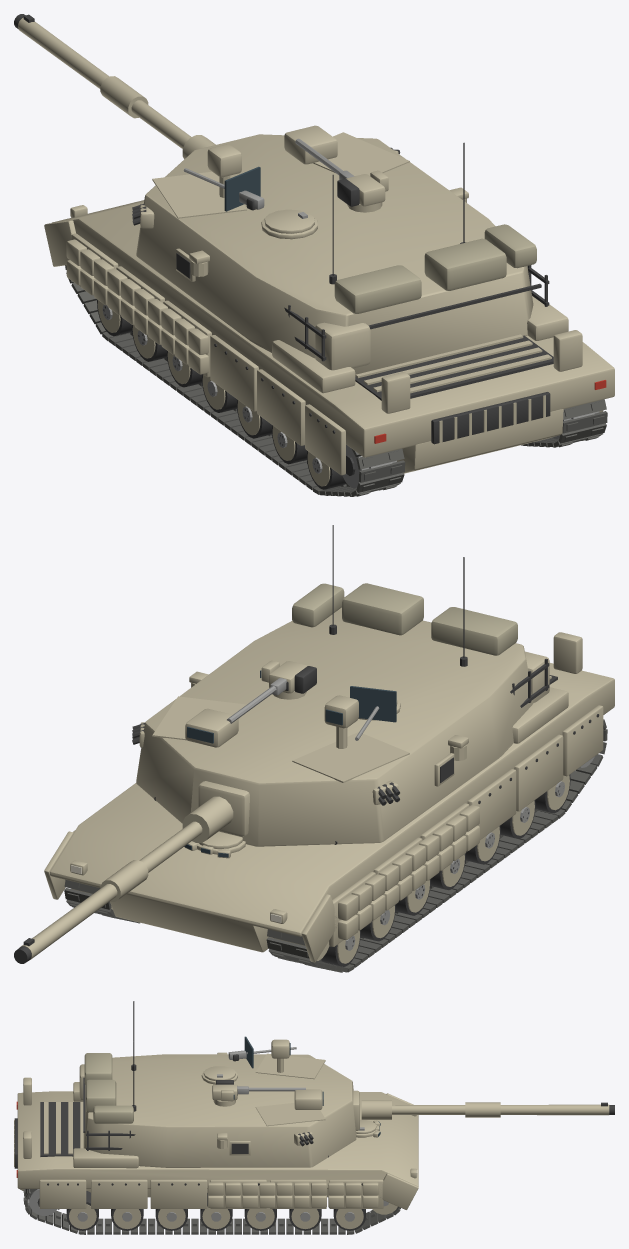
The model's file is usa_mbt_s3.glb.
The picture shows the model from 3 angles, top to bottom: view 1: azimuth 30°, elevation 25°; view 2: azimuth 150°, elevation 25°; view 3: azimuth 270°, elevation 25°; orthographic projection. The views are drawn at different scales.
Parts seen in each view (by area): view 1: turret, body, barrel; view 2: turret, body, barrel; view 3: body, turret, barrel.
Part boxes in pixels (x1,y1,x2,y2): turret: (132,125,549,376); body: (44,200,614,496); barrel: (14,14,215,159); turret: (132,525,549,846); body: (44,632,614,972); barrel: (14,796,233,963); body: (14,1077,418,1234); turret: (79,1001,359,1167); barrel: (361,1100,614,1119).
Size of the model in its own units: 4.08 by 3.84 by 11.88.
